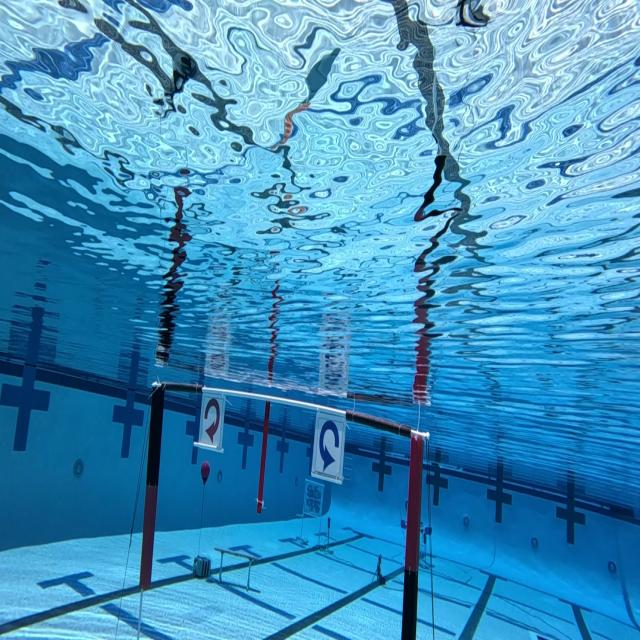blue_side: (314, 422, 348, 479)
red_side: (200, 392, 224, 450)
